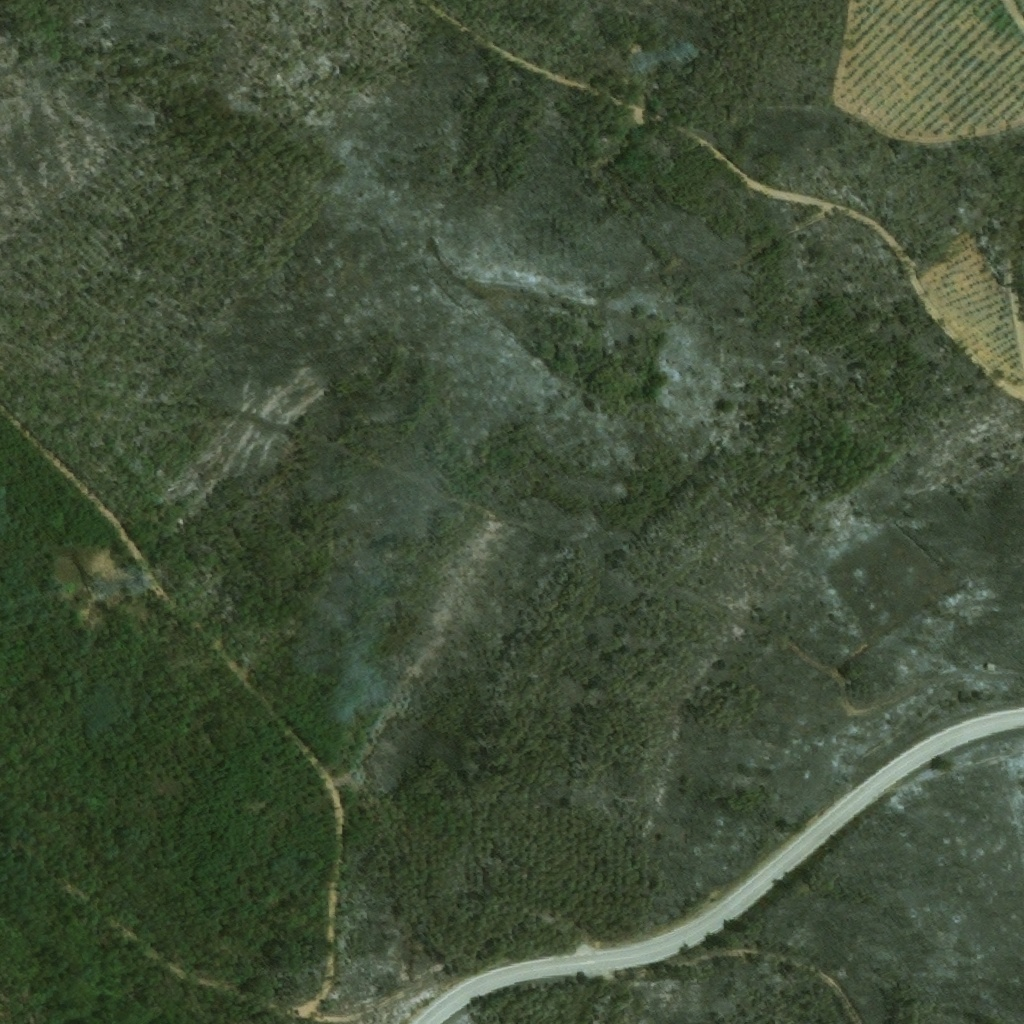4 un-classified: (986, 664, 995, 672)
